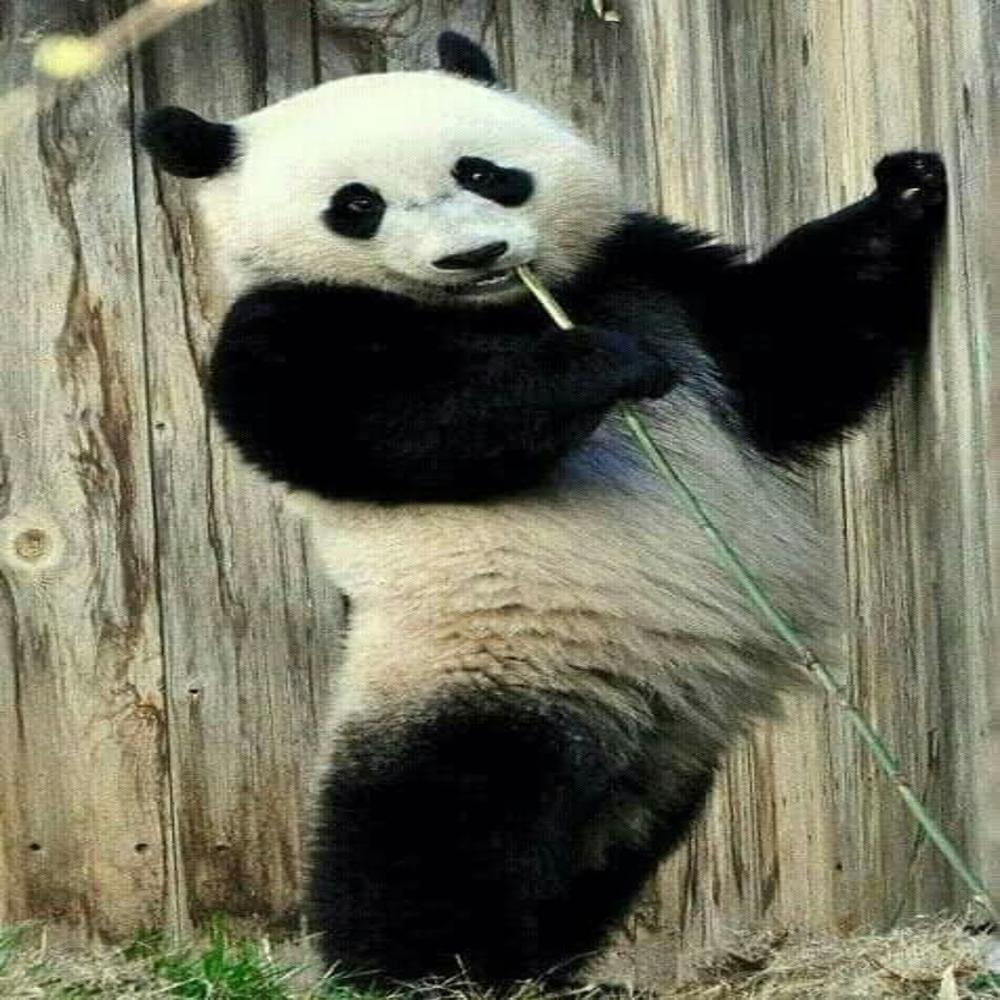panda: (132, 20, 951, 1000)
